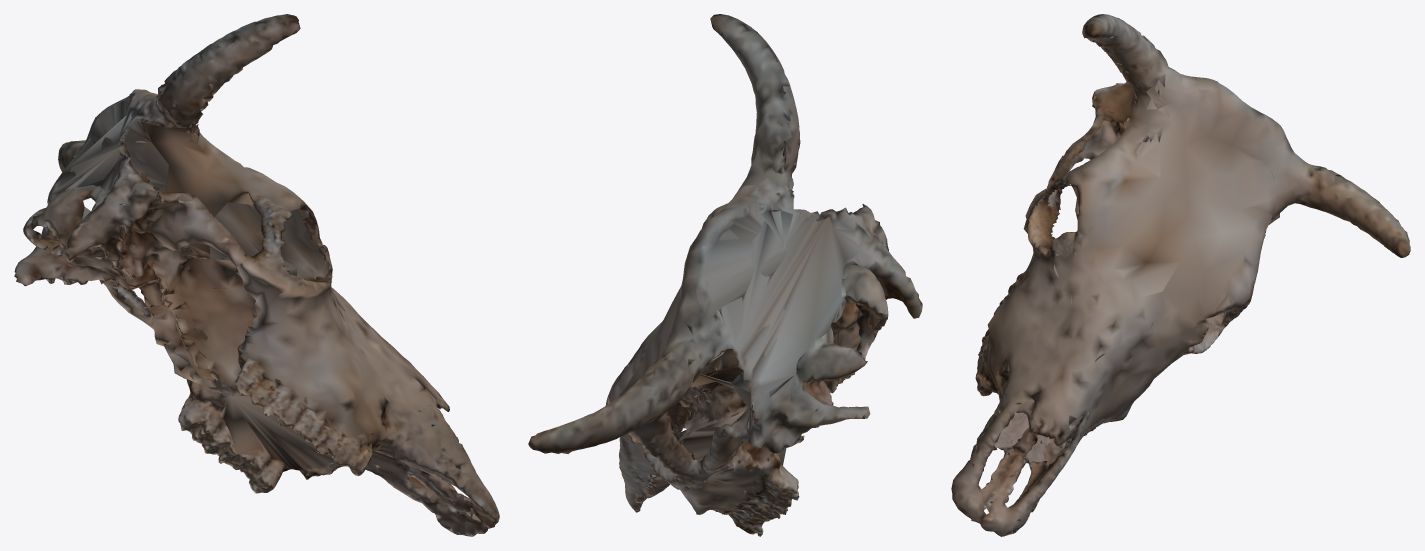
The model's file is reduced_cow_skull (not finished).fbx.
3 renders of one model, left to right at view 1: azimuth 30°, elevation 25°; view 2: azimuth 150°, elevation 25°; view 3: azimuth 270°, elevation 25°, orthographic. The views are drawn at different scales.
Visible parts, largest first — view 1: Bos_taurus_cranium_ANU_M198-000458187; view 2: Bos_taurus_cranium_ANU_M198-000458187; view 3: Bos_taurus_cranium_ANU_M198-000458187.
Boxes of the visible parts, <box> form: Bos_taurus_cranium_ANU_M198-000458187: <box>14,14,499,536</box>; Bos_taurus_cranium_ANU_M198-000458187: <box>528,14,922,536</box>; Bos_taurus_cranium_ANU_M198-000458187: <box>951,14,1410,536</box>.
Size of the model in its own units: 4603 by 6648 by 6059.
